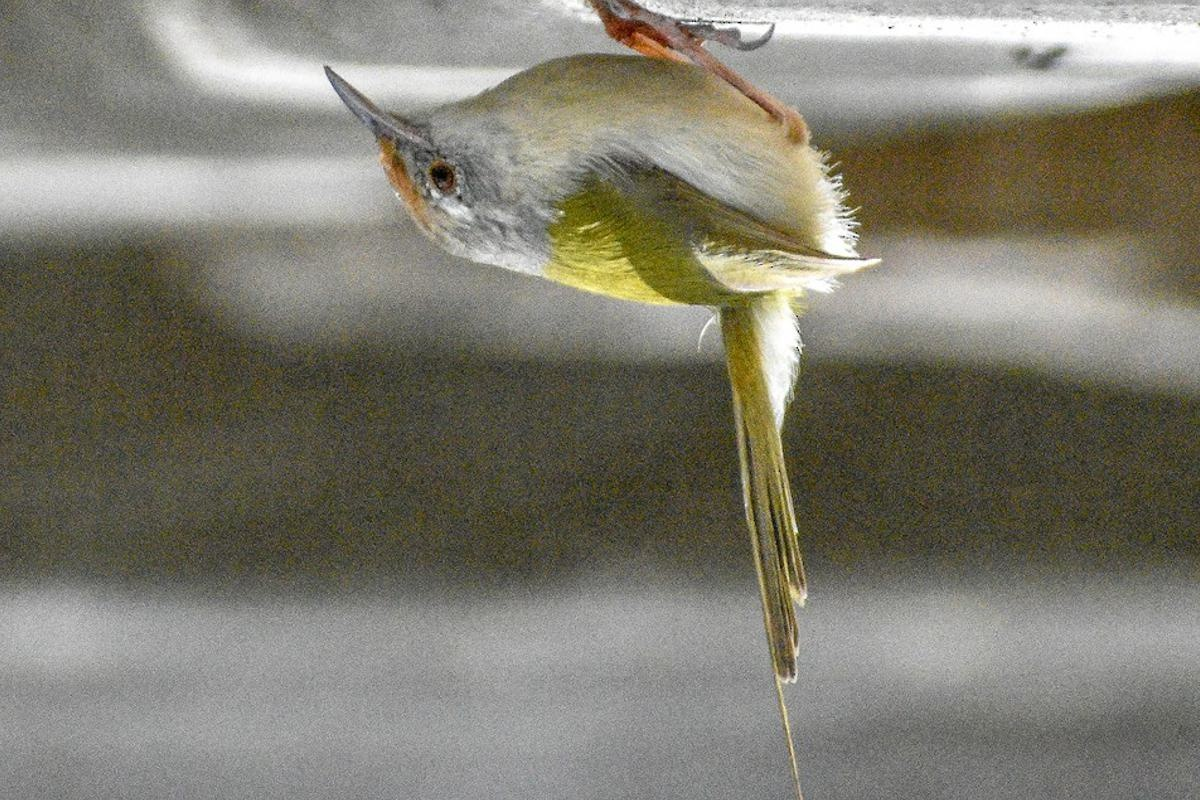tailorbird: (309, 31, 877, 695)
